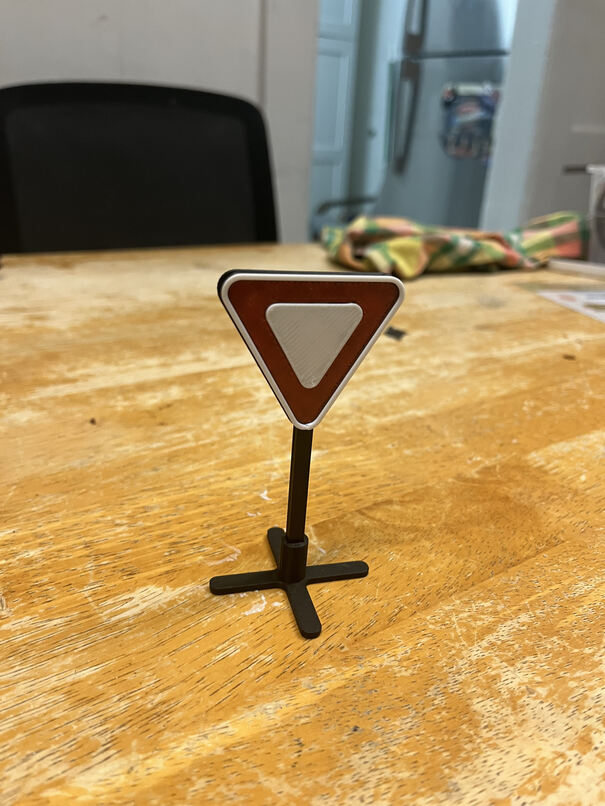sign_yield: (208, 262, 412, 433)
